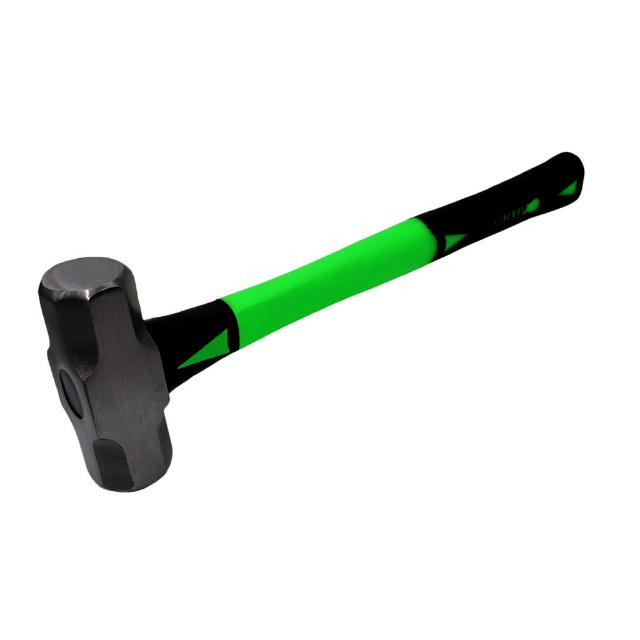hammer: (27, 143, 593, 499)
